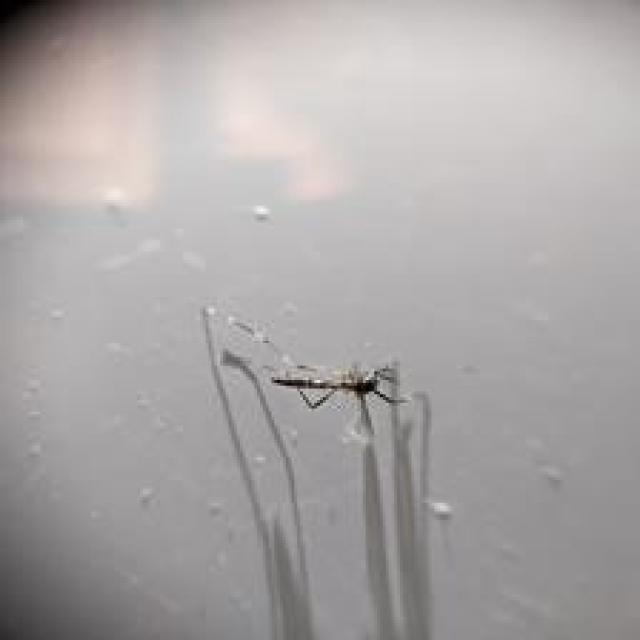Aedes albopictus: (270, 358, 410, 436)
